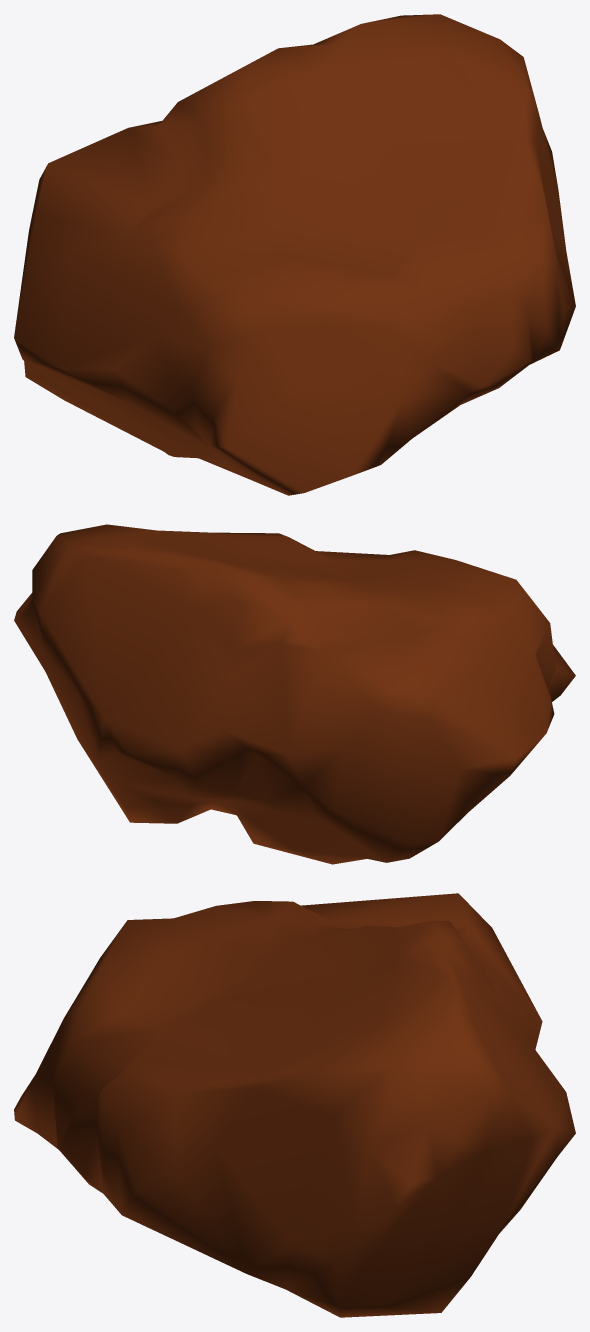
File: FM_M_Well_Stone_02.fbx
The picture shows the model from 3 angles, top to bottom: view 1: azimuth 30°, elevation 25°; view 2: azimuth 150°, elevation 25°; view 3: azimuth 270°, elevation 25°; orthographic projection. The views are drawn at different scales.
Parts seen in each view (by area): view 1: FM_M_Well_Stone_02; view 2: FM_M_Well_Stone_02; view 3: FM_M_Well_Stone_02.
Part boxes in pixels (left/top/right/bottom): FM_M_Well_Stone_02: left=14, top=14, right=575, bottom=495; FM_M_Well_Stone_02: left=14, top=524, right=575, bottom=864; FM_M_Well_Stone_02: left=14, top=893, right=575, bottom=1317.
Bounding box in the file's own units: 0.437 × 0.2566 × 0.3754.
